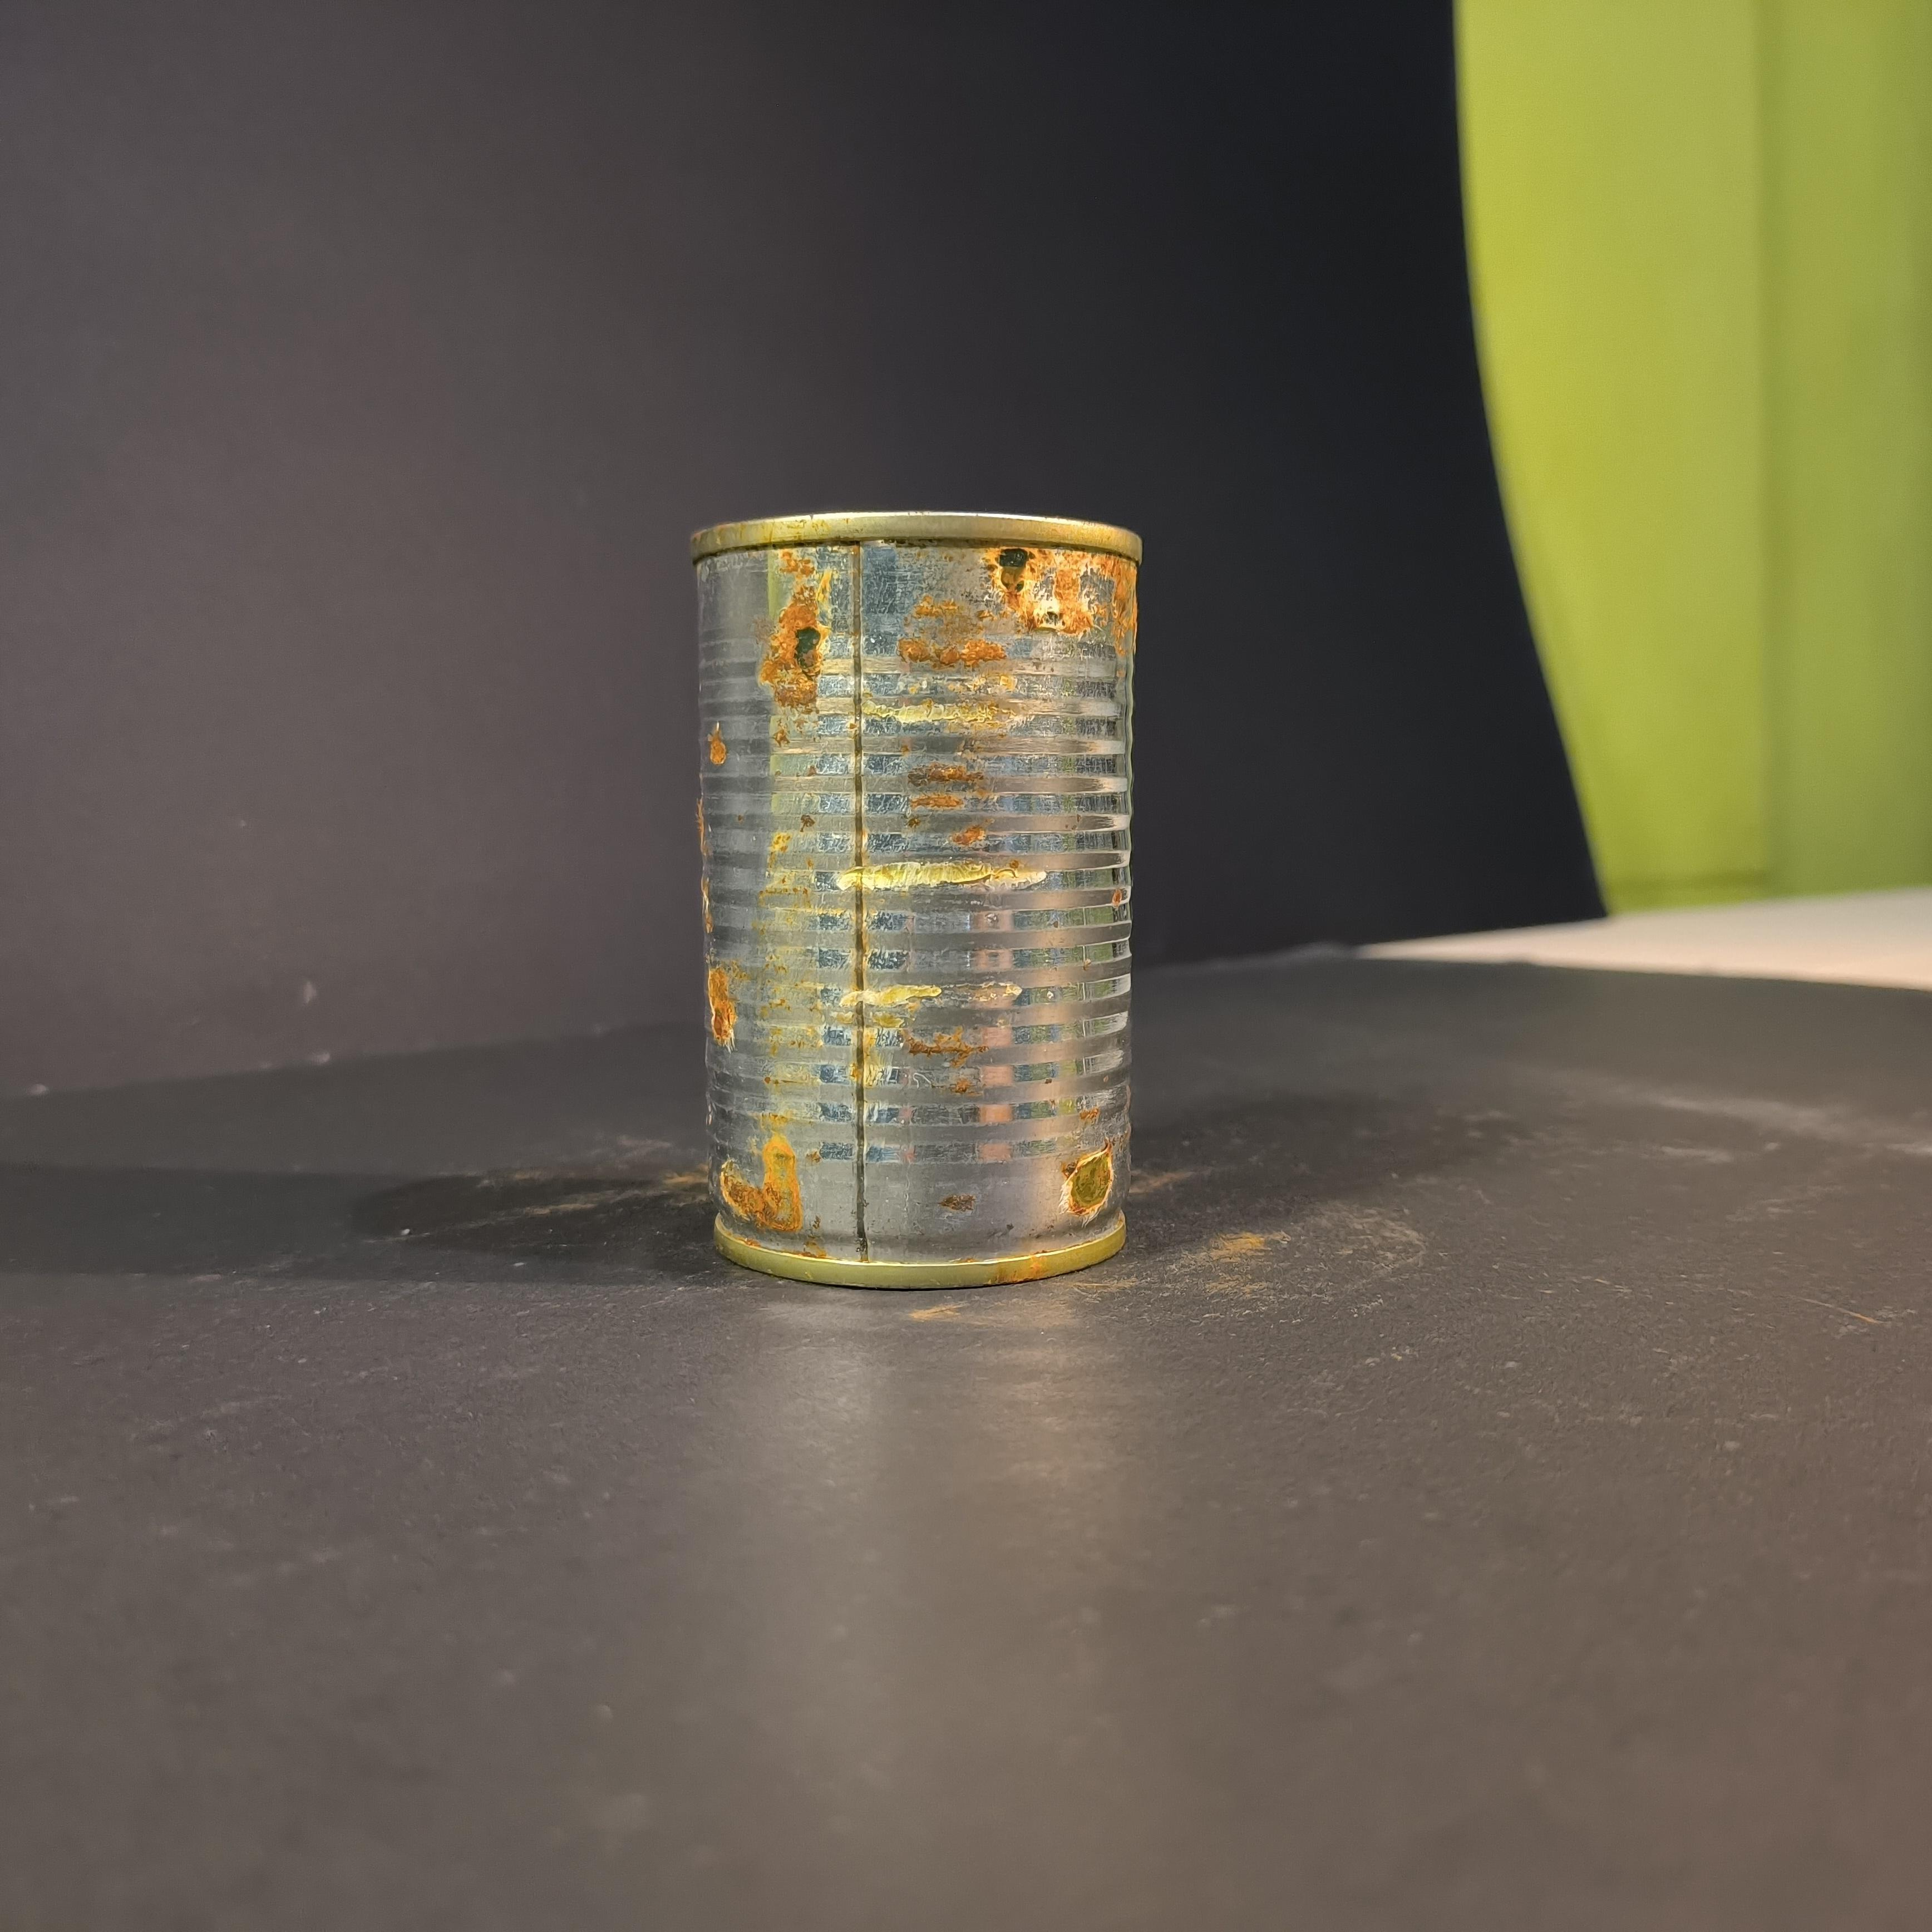Rusted: (679, 492, 1175, 1313)
